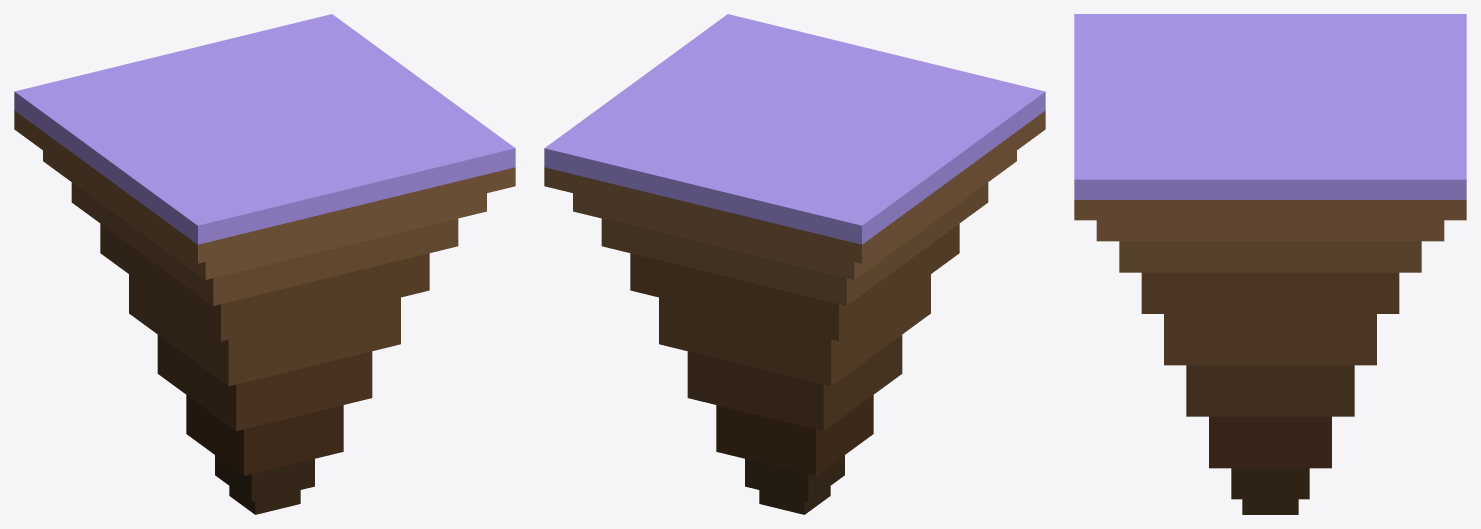
File: FarmIsland2.glb
The picture shows the model from 3 angles, left to right: view 1: azimuth 30°, elevation 25°; view 2: azimuth 150°, elevation 25°; view 3: azimuth 270°, elevation 25°; orthographic projection. The views are drawn at different scales.
Parts seen in each view (by area): view 1: Node1; view 2: Node1; view 3: Node1.
Part boxes in pixels (x1,y1,x2,y2): Node1: (14, 14, 515, 514); Node1: (544, 14, 1045, 514); Node1: (1074, 14, 1466, 514).
Bounding box in the file's own units: 3.5 × 4 × 3.5.
Materials: 1 (1 with a texture image).
